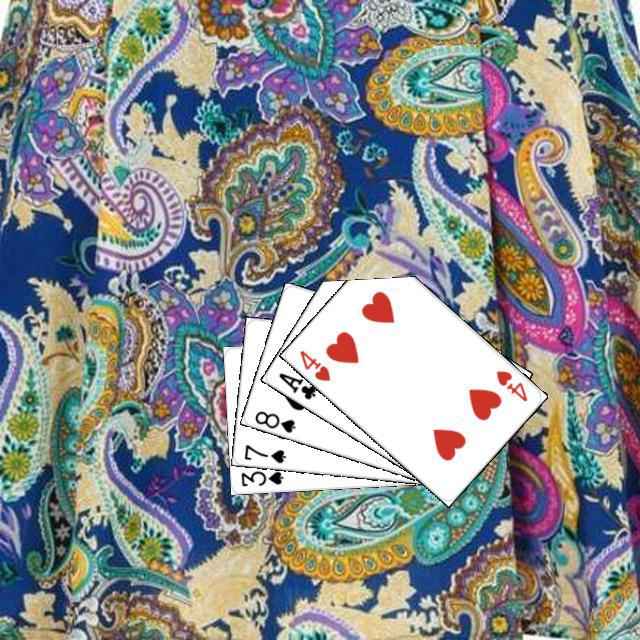3s: (236, 466, 285, 488)
4h: (491, 365, 529, 403), (295, 345, 332, 383)
7s: (239, 440, 288, 465)
8s: (250, 406, 297, 435)
Ac: (273, 367, 318, 401)
